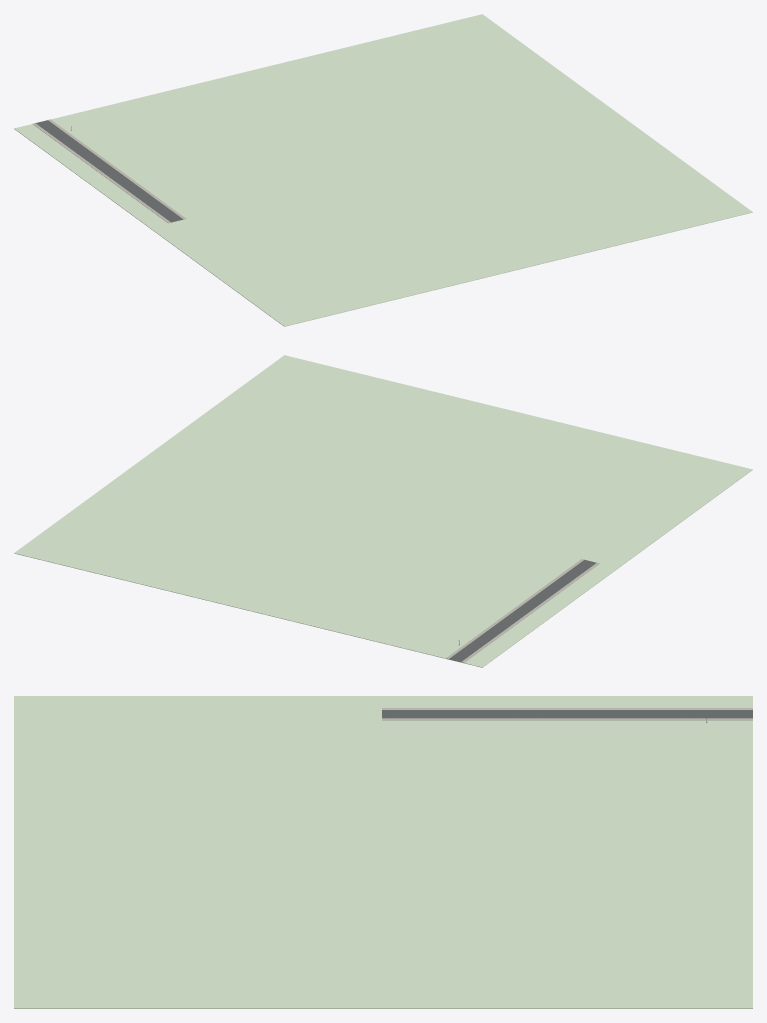
File: chunk_4_3_high.glb
The picture shows the model from 3 angles, top to bottom: view 1: azimuth 30°, elevation 25°; view 2: azimuth 150°, elevation 25°; view 3: azimuth 270°, elevation 25°; orthographic projection. The views are drawn at different scales.
Parts seen in each view (by area): view 1: city_grass, city_world_asphalt, city_world_sidewalk; view 2: city_grass, city_world_asphalt, city_world_sidewalk; view 3: city_grass, city_world_asphalt, city_world_sidewalk.
Part boxes in pixels (bbox=[...]): city_grass: bbox=[14, 14, 752, 326]; city_world_asphalt: bbox=[35, 120, 182, 222]; city_world_sidewalk: bbox=[32, 119, 185, 223]; city_grass: bbox=[14, 355, 752, 667]; city_world_asphalt: bbox=[449, 559, 596, 661]; city_world_sidewalk: bbox=[446, 559, 599, 662]; city_grass: bbox=[14, 696, 752, 1008]; city_world_asphalt: bbox=[382, 710, 752, 718]; city_world_sidewalk: bbox=[382, 708, 752, 720].
Bounding box in the file's own units: 512 × 5.42 × 512.
